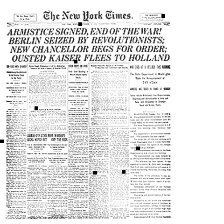news_paper: (0, 3, 173, 224)
